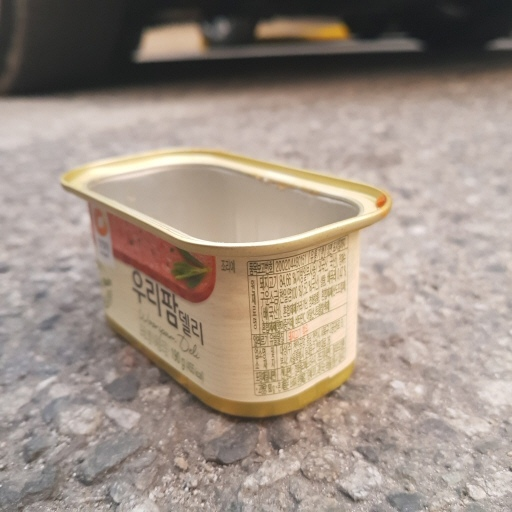Metal_2: (57, 140, 394, 419)
